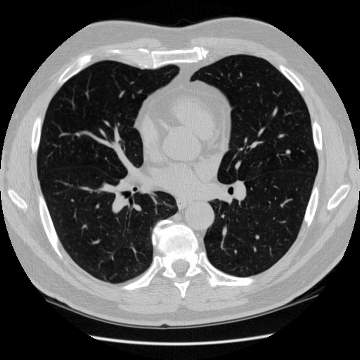nodule: (285, 148, 291, 154)
